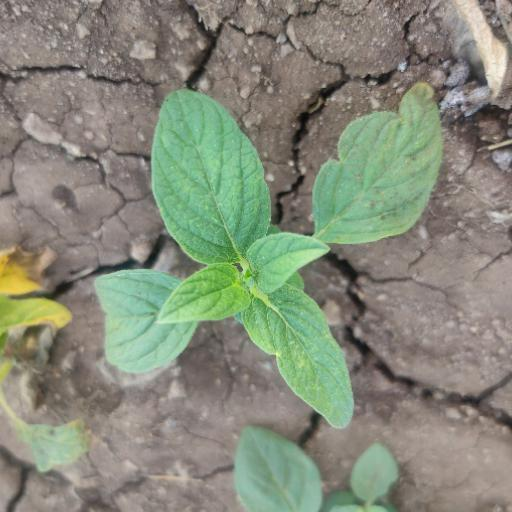crop: (77, 62, 443, 430)
